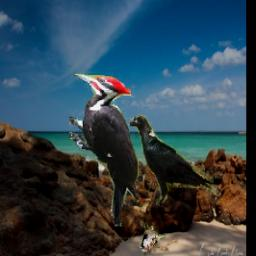Crow: (127, 115, 214, 209)
Sparrow: (141, 222, 166, 251)
Woodpecker: (69, 72, 139, 226)
